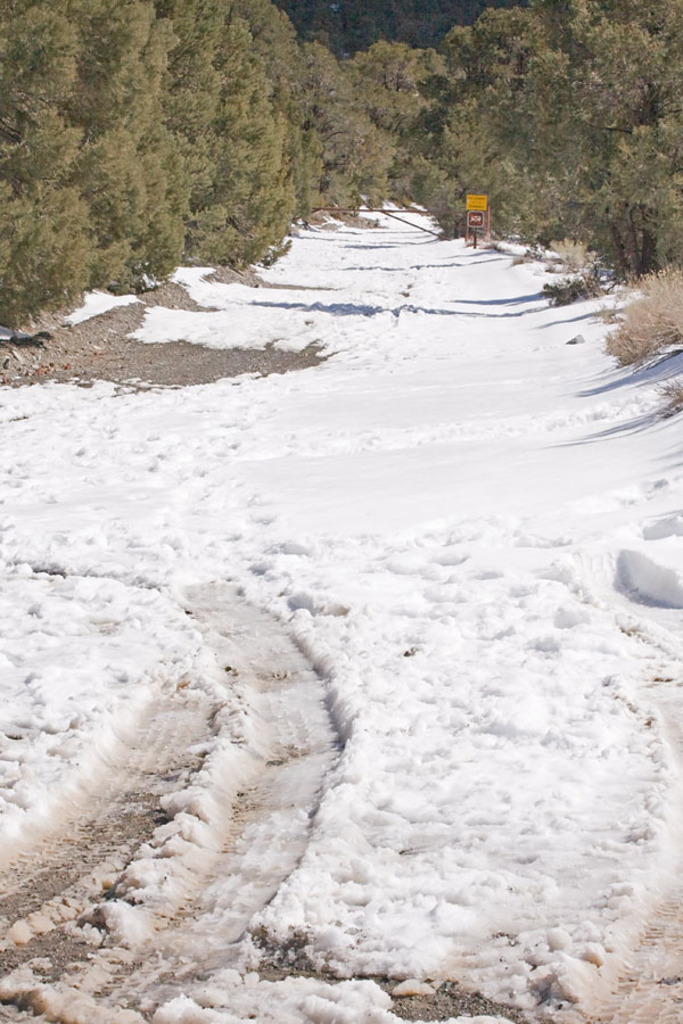Tree: (0, 0, 387, 343), (389, 0, 681, 283)
